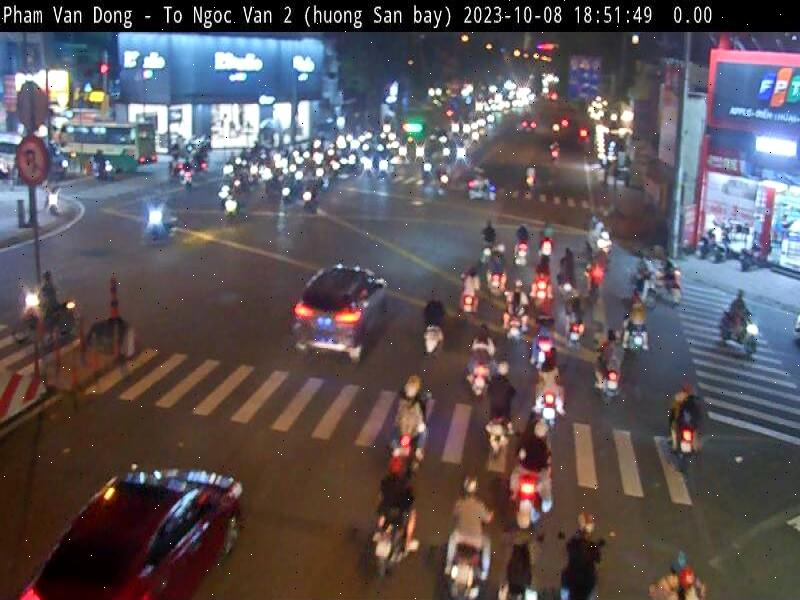car: (20, 473, 251, 600), (286, 254, 392, 365)
